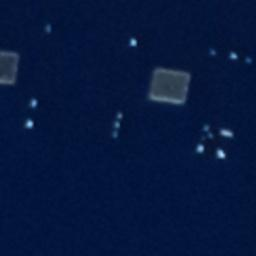square_cover: (145, 63, 192, 107), (1, 48, 24, 89)
